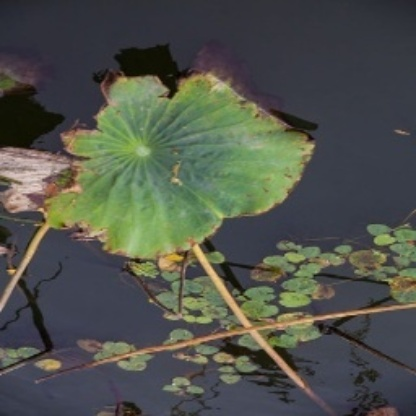leaf: (61, 70, 316, 259)
